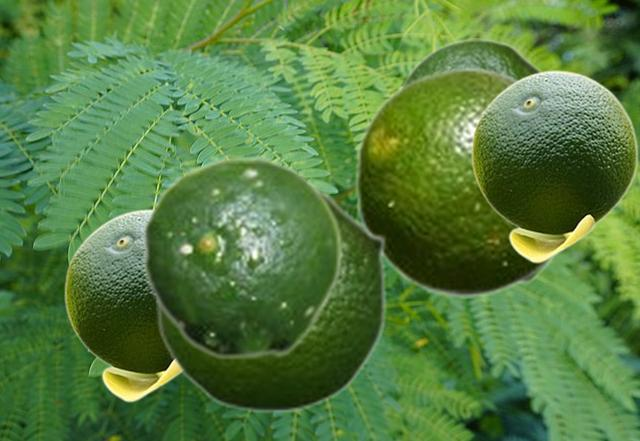calamansi: (156, 184, 387, 413), (353, 66, 563, 297), (141, 155, 343, 360), (471, 70, 637, 262), (64, 209, 180, 401), (396, 38, 542, 88)
